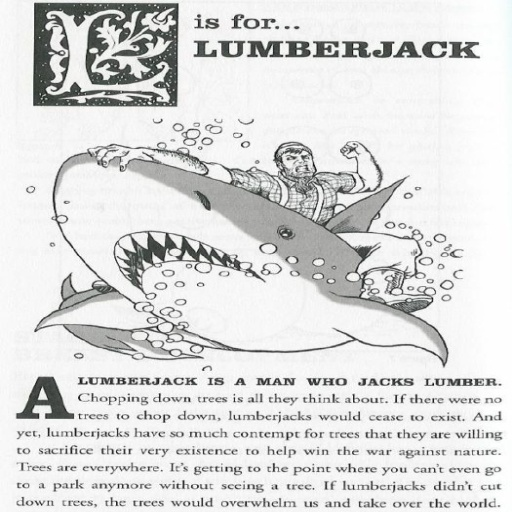hand: (84, 142, 153, 171), (337, 140, 366, 160)
